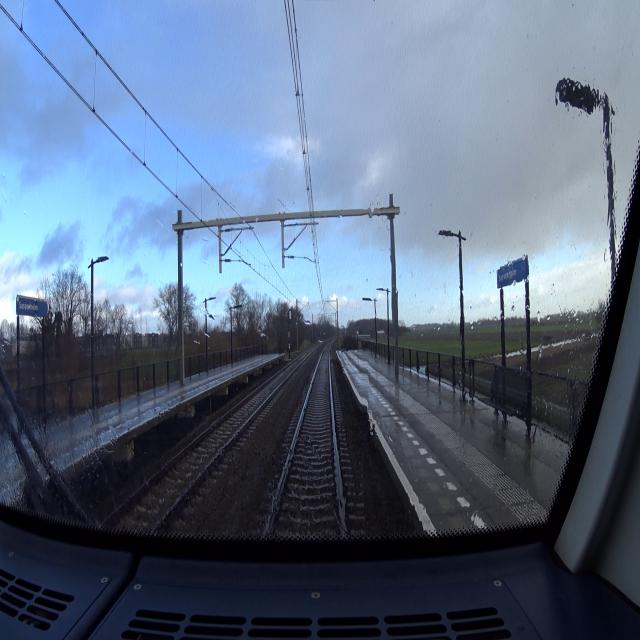rail-track: (109, 359, 300, 532), (267, 345, 342, 539)
